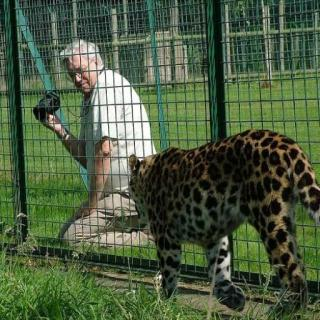Leopard: (123, 142, 320, 303)
